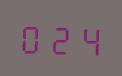four: (75, 20, 102, 57)
two: (47, 19, 74, 56)
zero: (18, 18, 45, 55)
